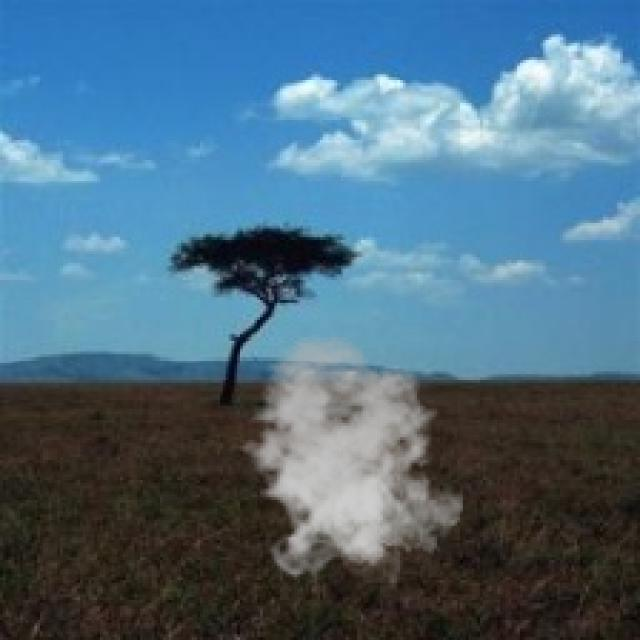smoke: (228, 334, 463, 583)
